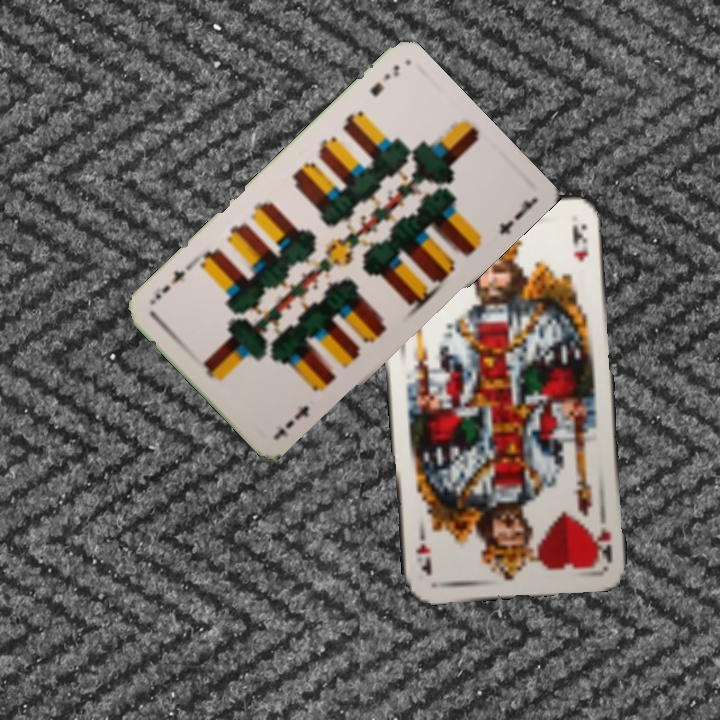E7: (366, 60, 403, 99), (281, 401, 312, 432)
HK: (592, 505, 616, 565)
